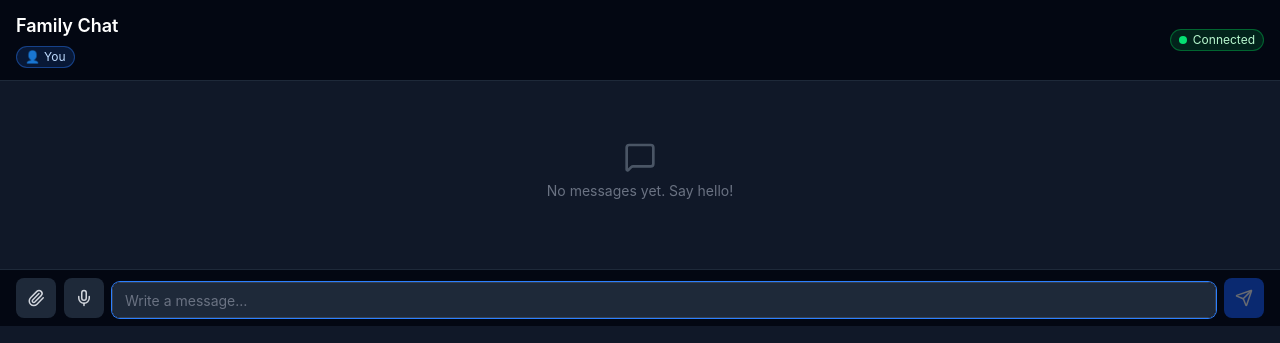
it: ChatView – optimistic send + reconciliation › renders a typed message instantly in a sending state before any network response
Check: the text "No messages yet. Say hello!" is shown, box [547,181,733,201]
Type "Instant render" into the text box at (664, 300), box [112,282,1216,318]
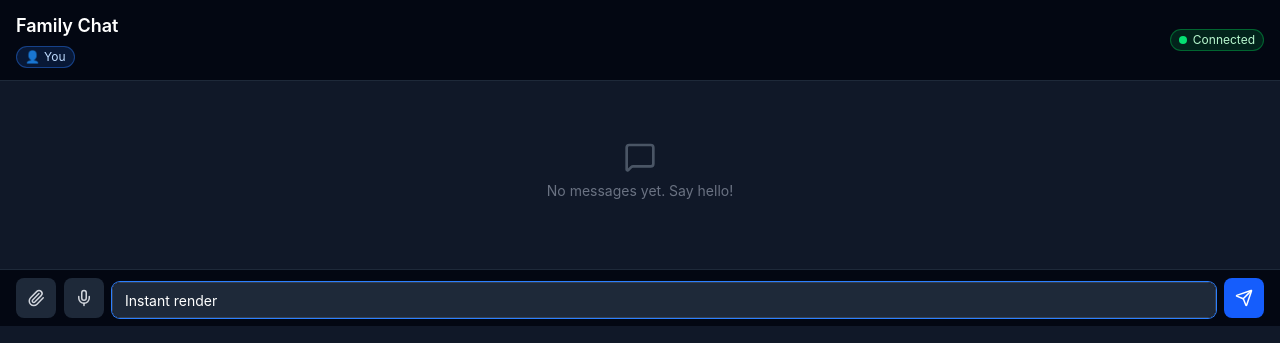
Press Enter in the text box, box [112,282,1216,318]
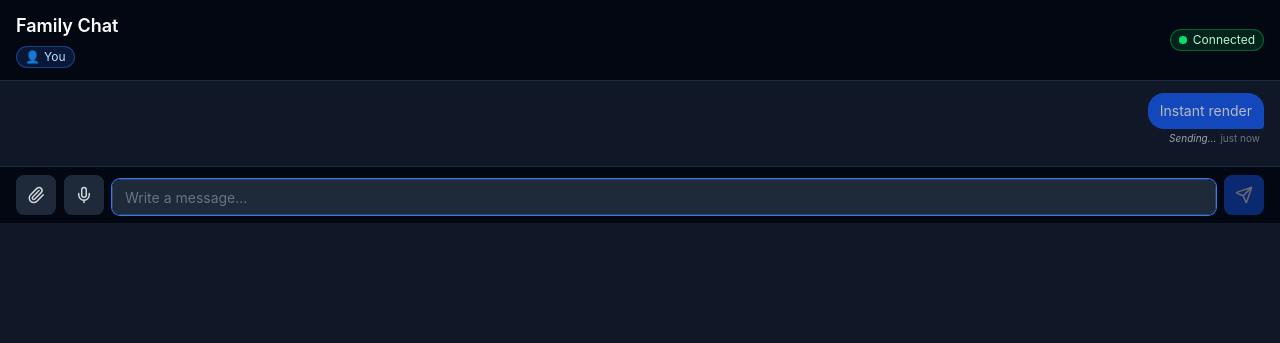
Check: the text "Instant render" is shown, box [1160,101,1252,121]
Check: the text "Sending…" is shown, box [1169,131,1216,146]
